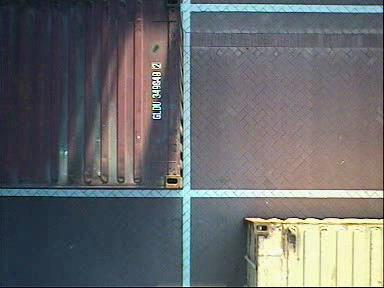groundmarker_2: (44, 161, 111, 263)
